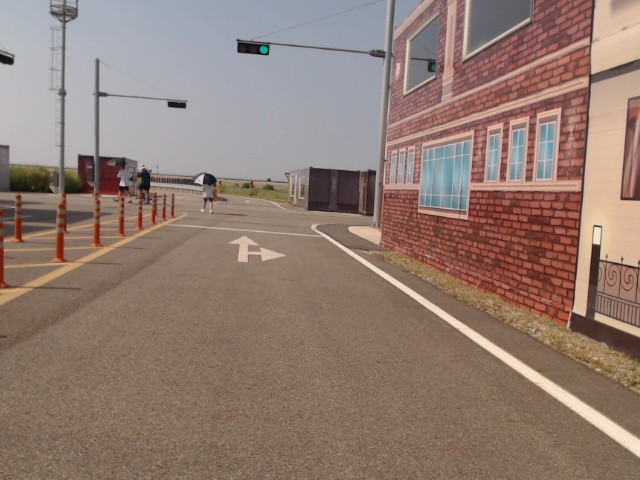green_3: (237, 42, 270, 56)
